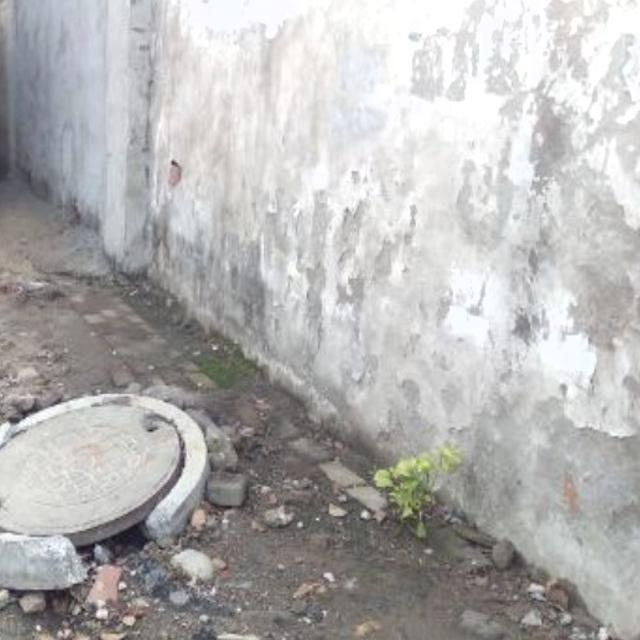circle: (0, 389, 213, 595)
